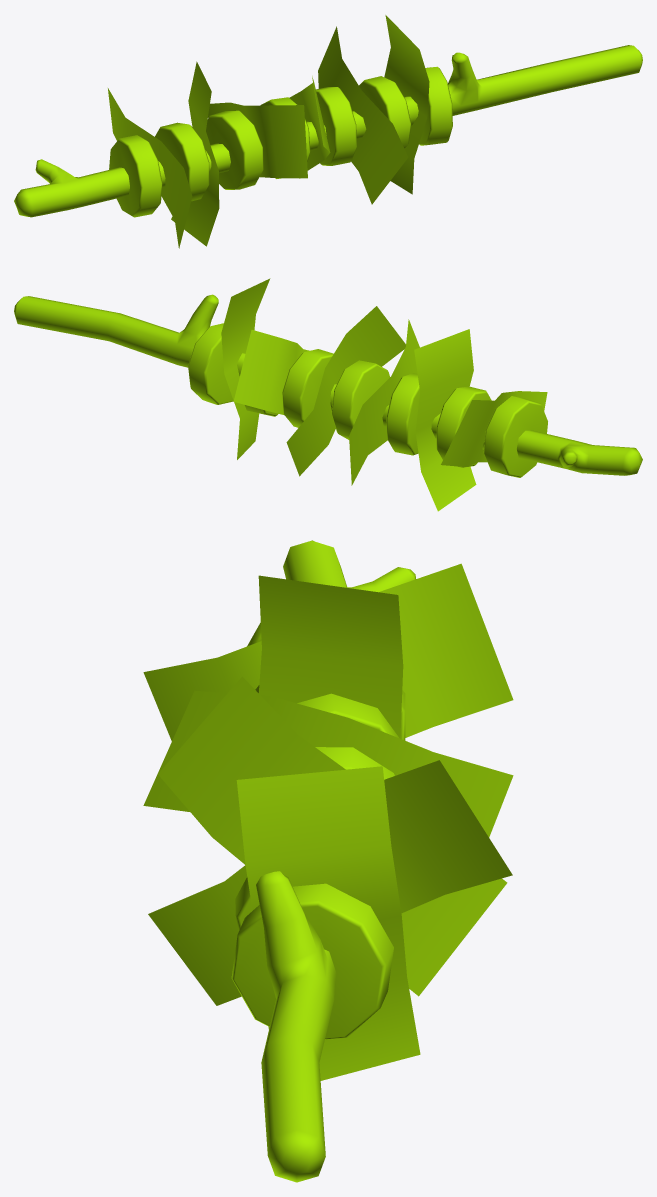
The model's file is Mode_brochette.fbx.
3 renders of one model, top to bottom at view 1: azimuth 30°, elevation 25°; view 2: azimuth 150°, elevation 25°; view 3: azimuth 270°, elevation 25°, orthographic. The views are drawn at different scales.
Parts seen in each view (by area): view 1: brochette; view 2: brochette; view 3: brochette.
Boxes of the visible parts, x1=… form: brochette: x1=14, y1=15, x2=642, y2=248; brochette: x1=14, y1=278, x2=642, y2=511; brochette: x1=143, y1=540, x2=513, y2=1182.
Bounding box in the file's own units: 79.73 × 19.94 × 20.65.
